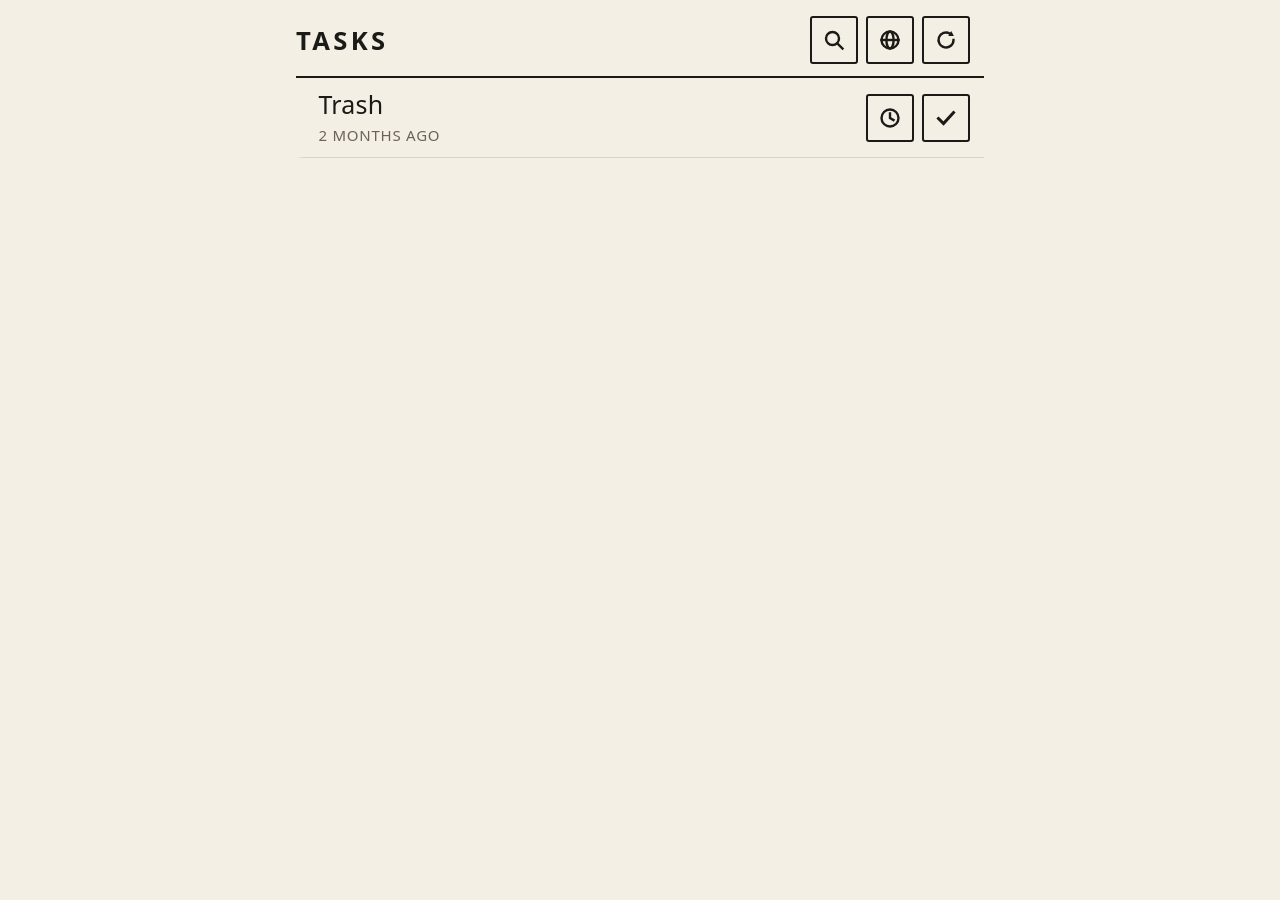
Test: App › search › completes from the results and strikes the row on the board too
Click the button named "Search tasks": (834, 40) x1=810 y1=16 x2=858 y2=64
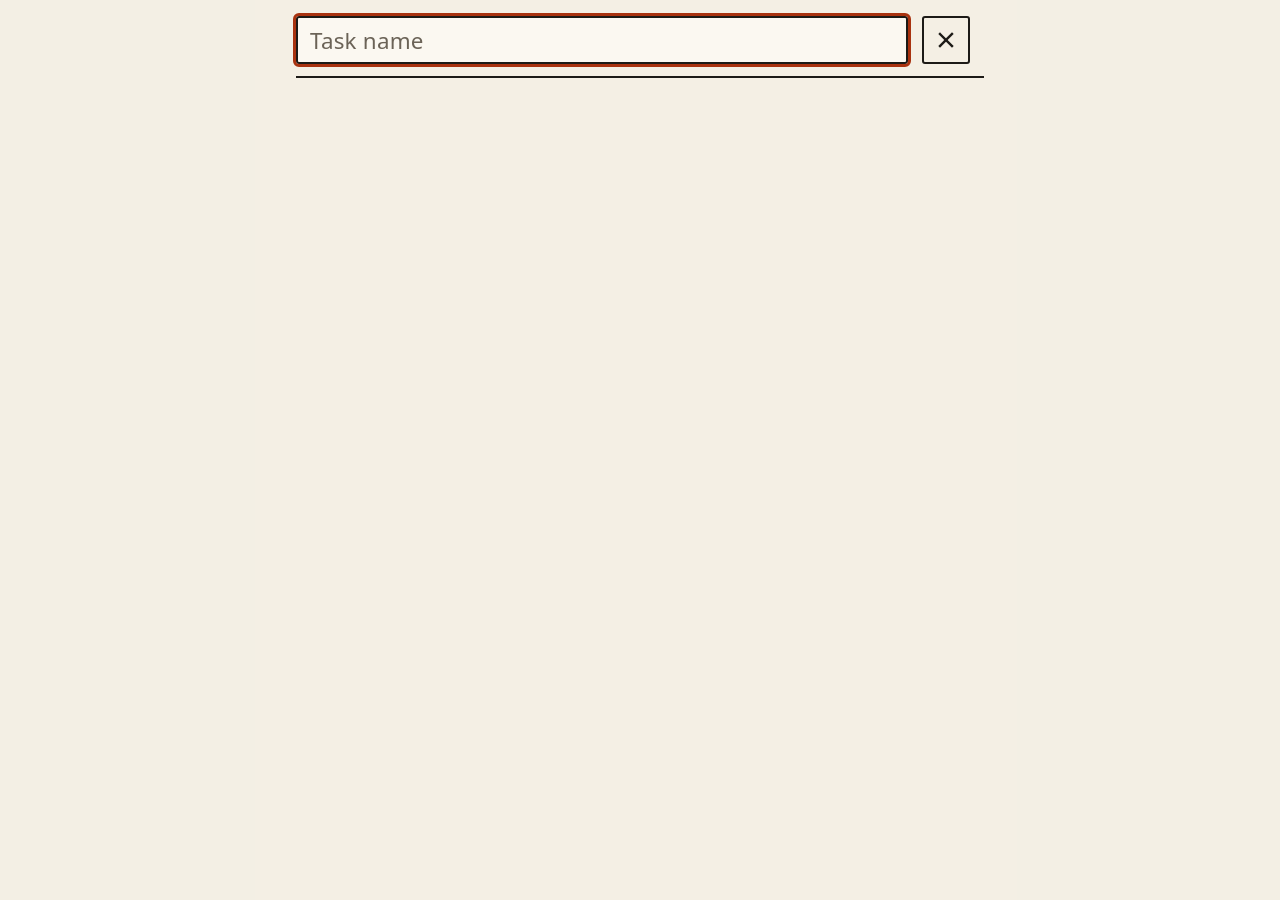
Type keys "tra"
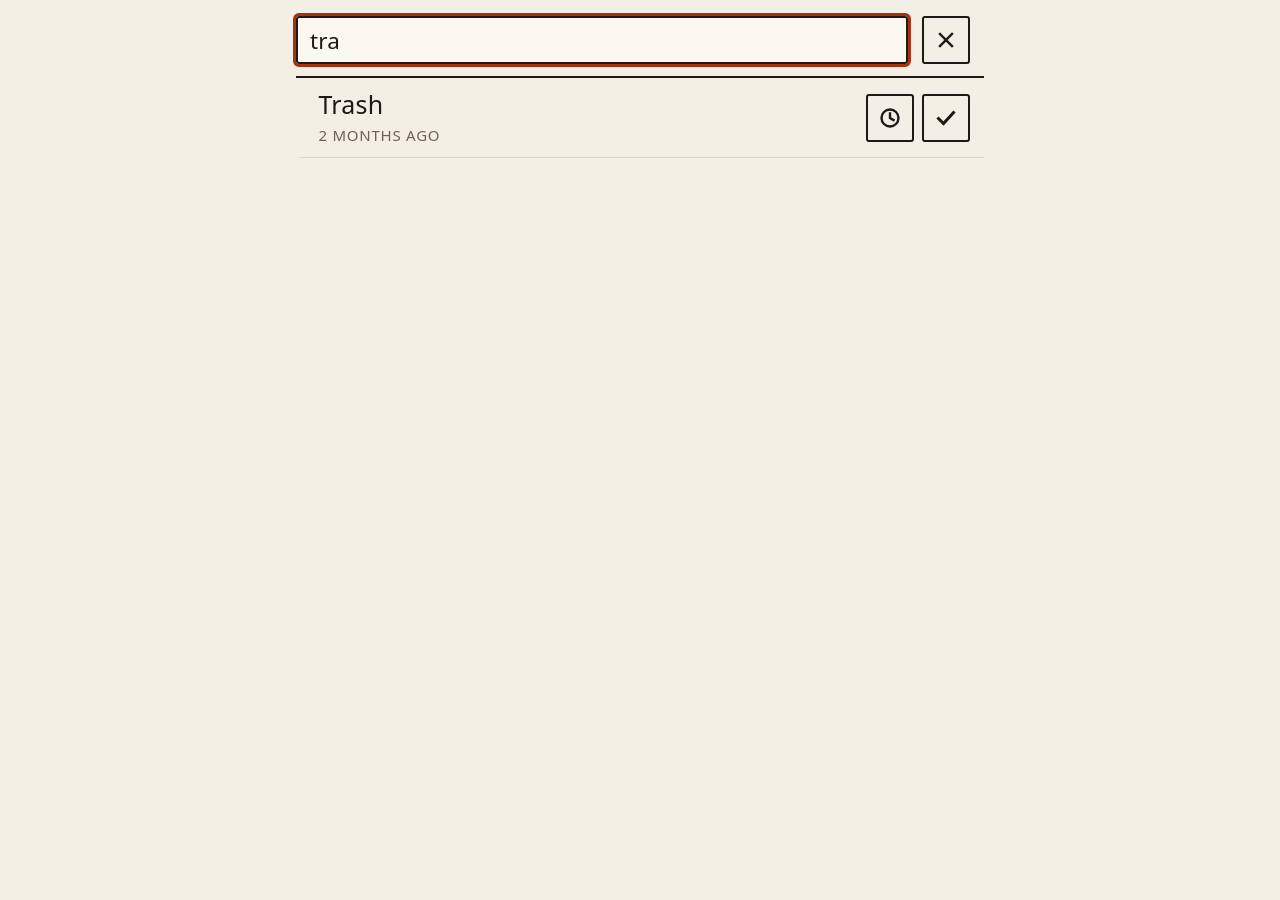
Click the button named "Mark Trash done": (946, 118) x1=922 y1=94 x2=970 y2=142
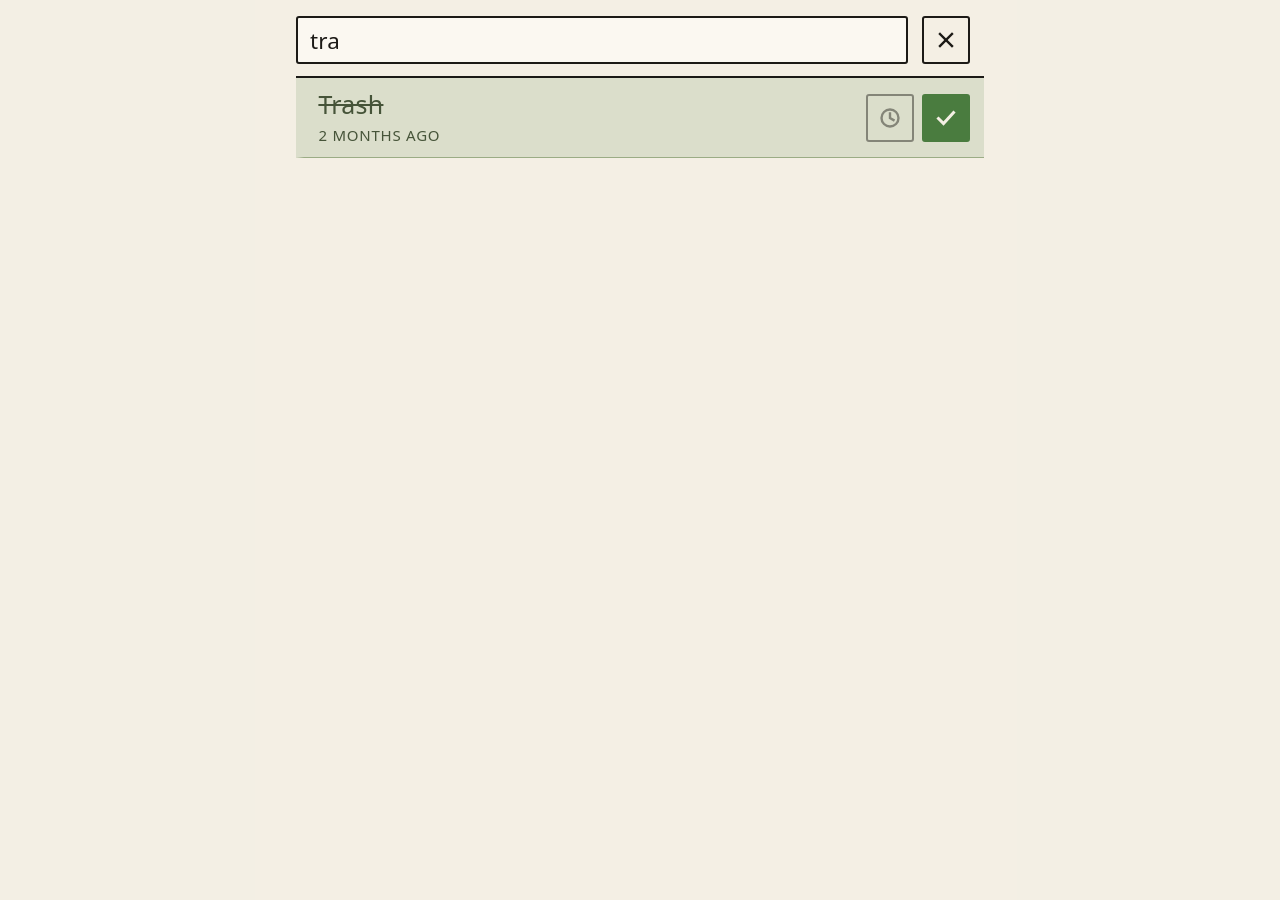
Check: the list item has attribute data-status="done", box x1=296 y1=78 x2=984 y2=158
Click the button named "Close search": (946, 40) x1=922 y1=16 x2=970 y2=64
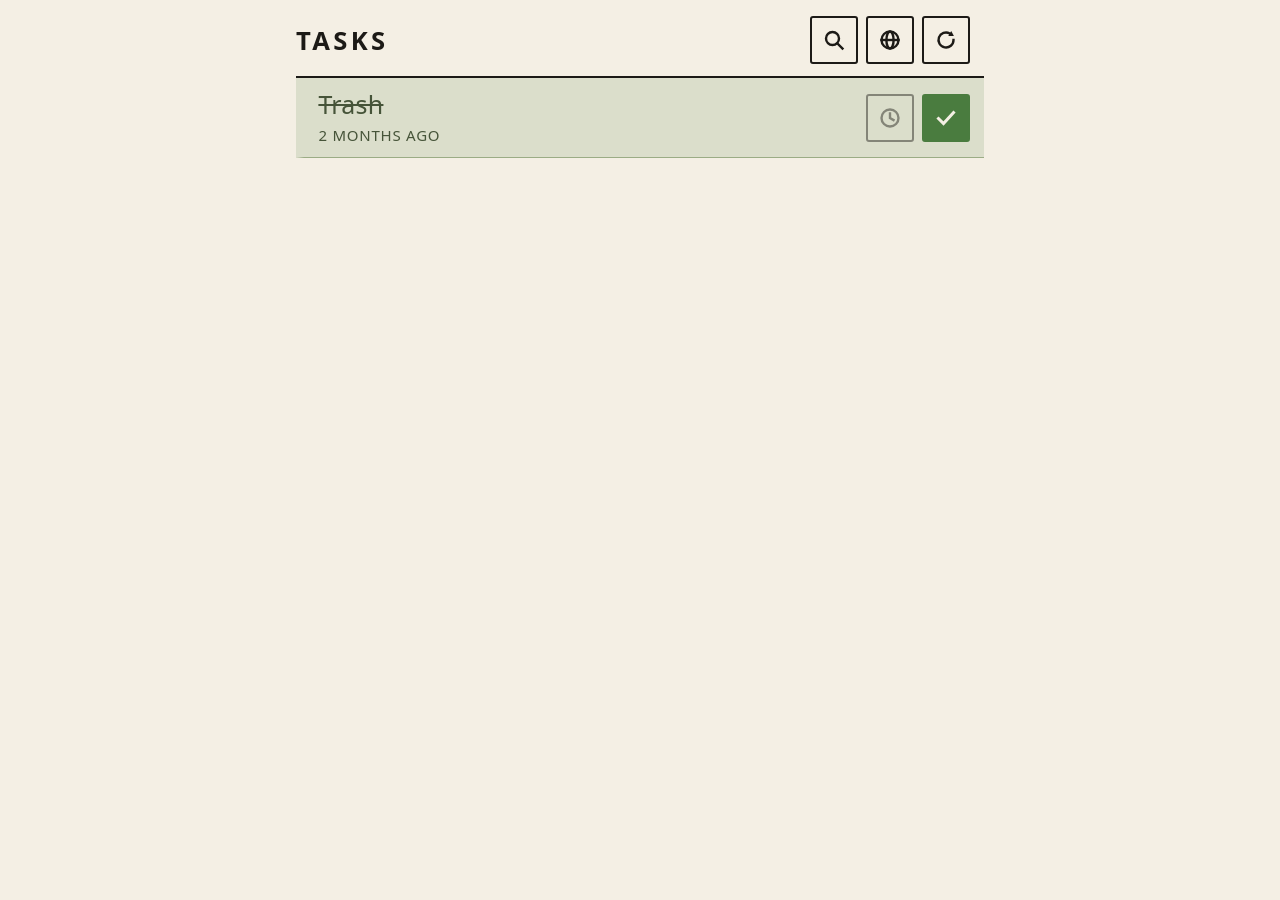
Check: the dialog is gone
